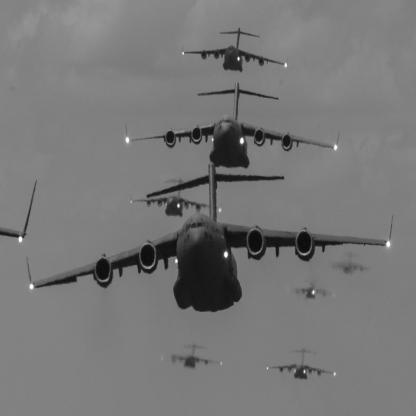C17: (27, 163, 395, 313), (126, 82, 341, 170), (183, 28, 289, 73), (131, 179, 225, 219), (268, 348, 338, 382), (162, 344, 224, 371), (291, 279, 336, 302), (330, 252, 372, 276)
